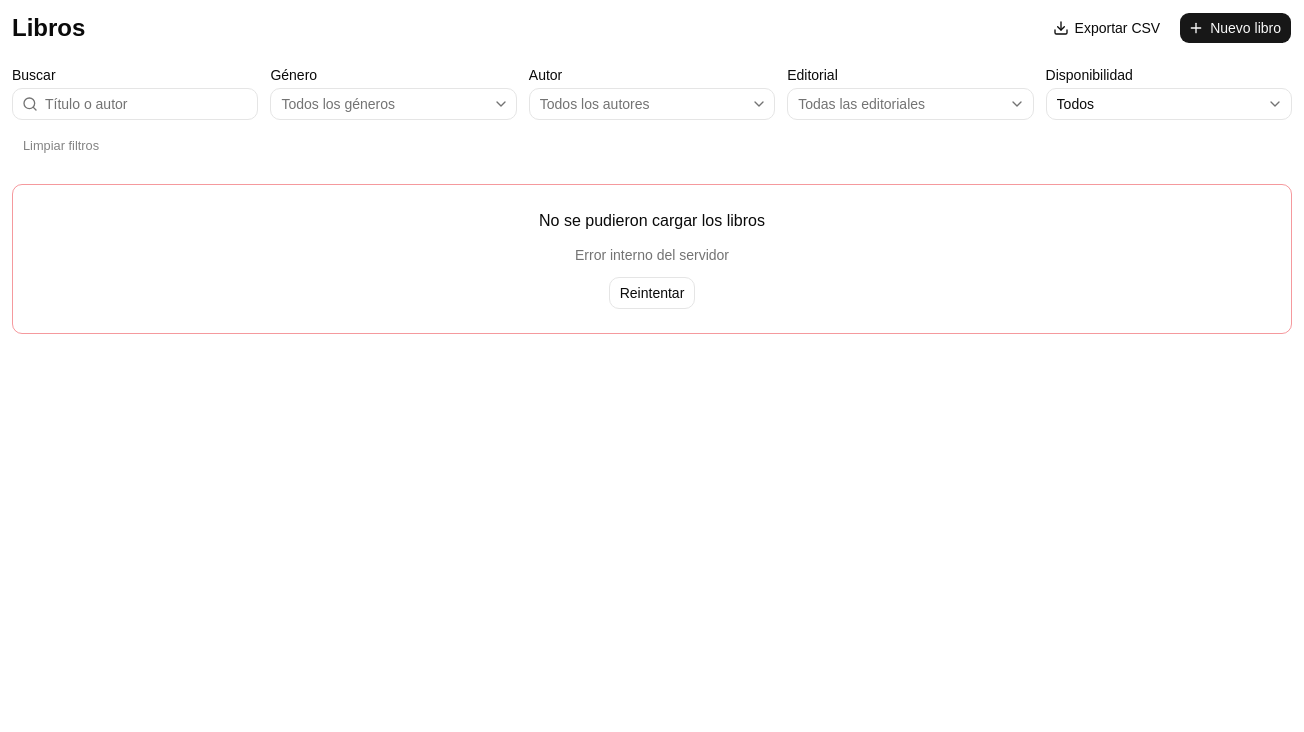
Test case: BooksListPage › muestra un error con "Reintentar" y recupera la lista
The image size is (1304, 732).
Check: the text "No se pudieron cargar los libros" is shown, box [539,209,765,233]
Check: the text "Error interno del servidor" is shown, box [575,245,729,265]
Click the button "Reintentar". click: (652, 293)
box: [609,277,695,309]
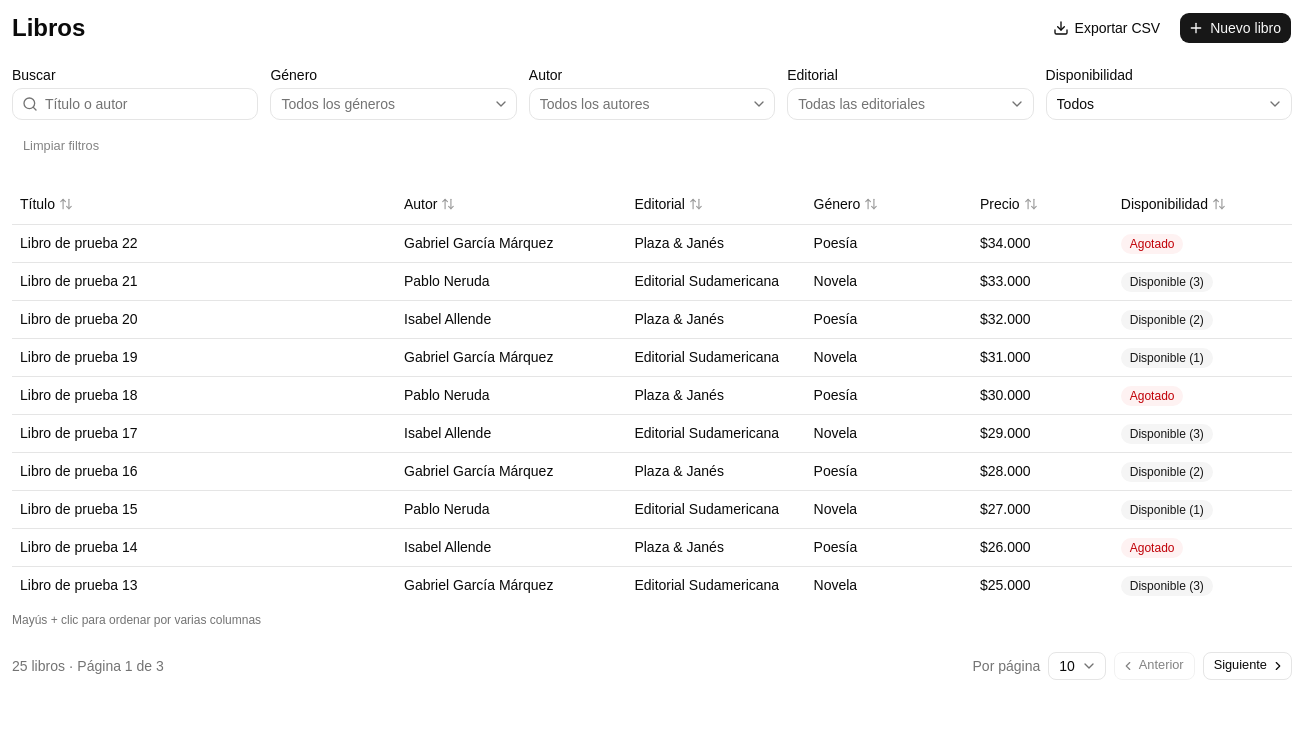
Check: the number of rows is 11
